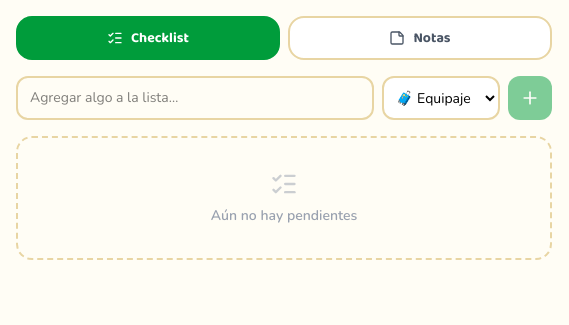
Test case: PendientesModule › error al agregar → alerta
Type "Cargador" into the field named "Nuevo pendiente" at (195, 98), box 16,76 -> 374,120
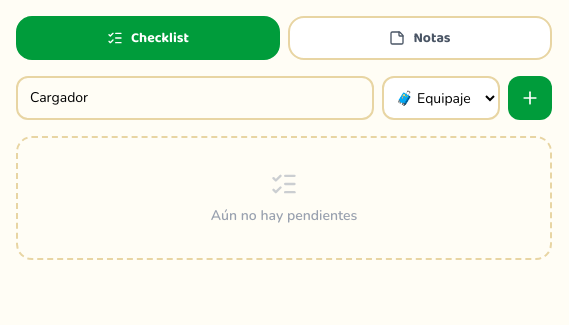
Click the button named "Agregar" at (530, 98), box 508,76 -> 552,120
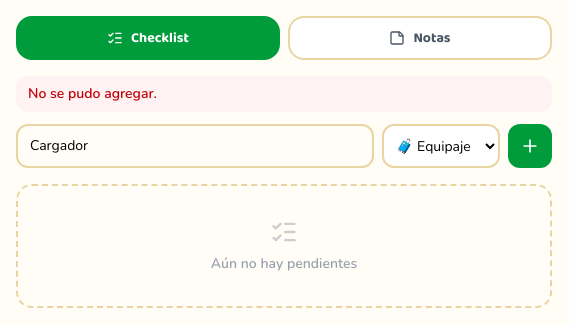
Check: the message shows "No se pudo agregar", box 28,84 -> 157,103
